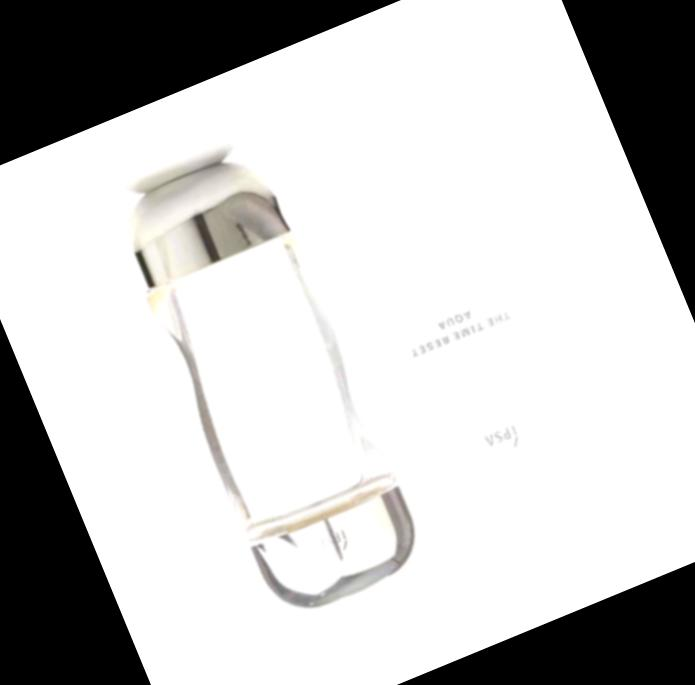cosmetic: (100, 142, 429, 626)
